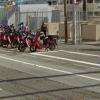Motorcycle: (4, 20, 60, 55)
